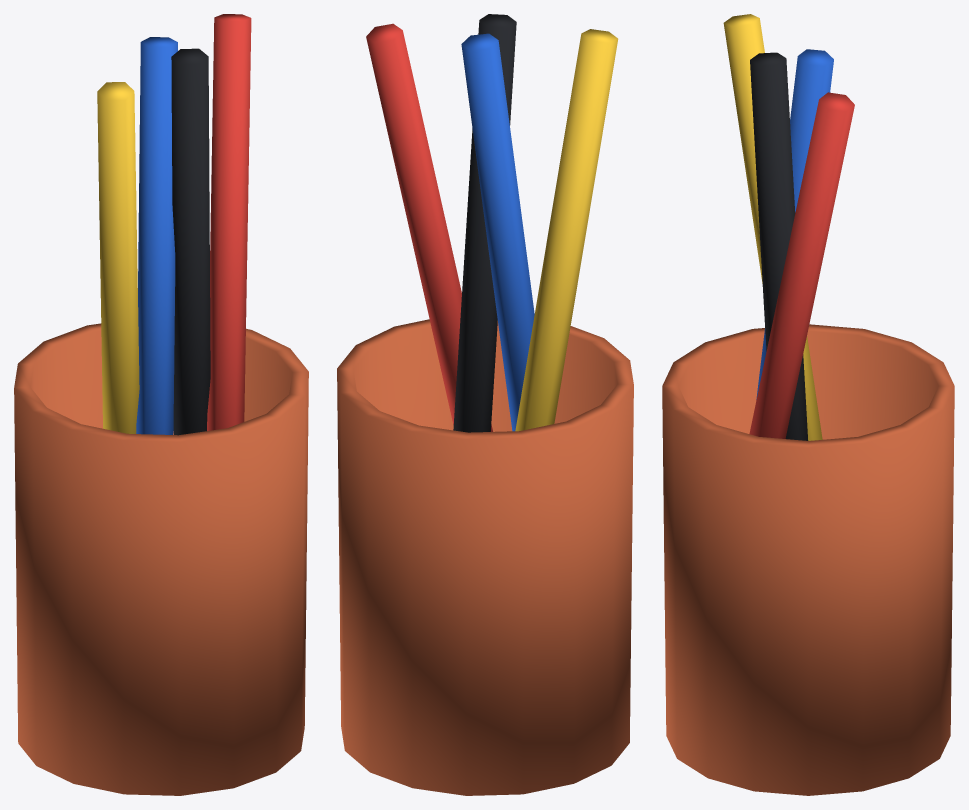
Rendered from RmPenCup.fbx.
3 views of the same model, side by side, from view 1: azimuth 30°, elevation 25°; view 2: azimuth 150°, elevation 25°; view 3: azimuth 270°, elevation 25° (orthographic). The views are drawn at different scales.
Visible parts, largest first — view 1: RmPenCupBody; view 2: RmPenCupBody; view 3: RmPenCupBody.
Boxes of the visible parts, x1=… form: RmPenCupBody: x1=14, y1=14, x2=308, y2=795; RmPenCupBody: x1=337, y1=14, x2=633, y2=795; RmPenCupBody: x1=662, y1=14, x2=954, y2=795.
Bounding box in the file's own units: 0.072 × 0.1851 × 0.072.
